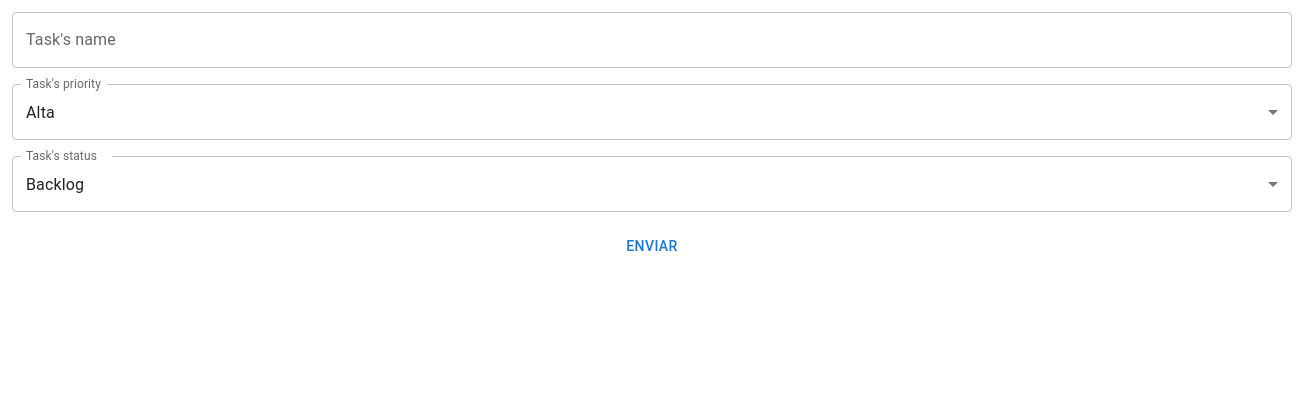
Scenario: <TaskUpdateForm /> › Should save inputs value in form's state
// Type a name
Type "uno" into the field labelled "Task's name" at point(652, 40), box [12,12,1292,68]
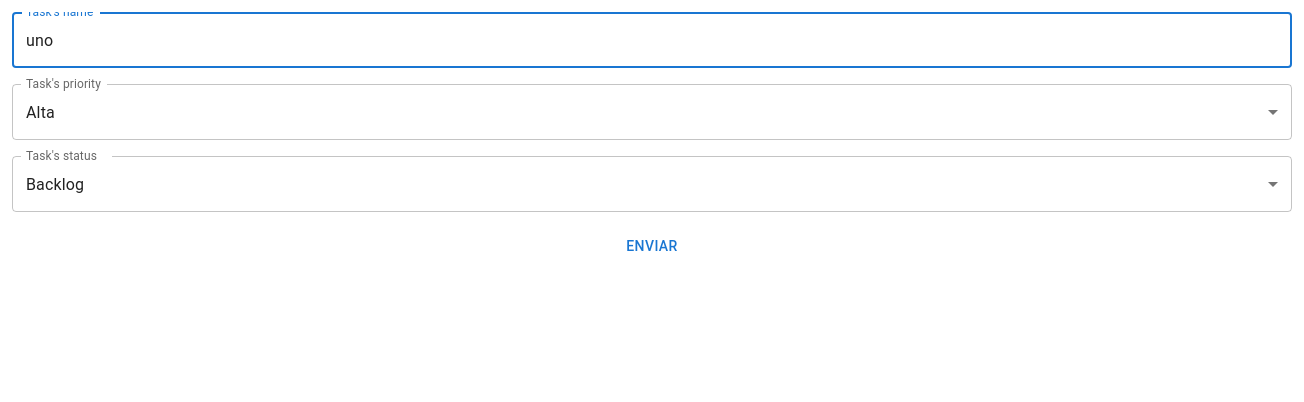
// Select priority
Click the dropdown named "priority" at point(40, 112), box [26,102,55,122]
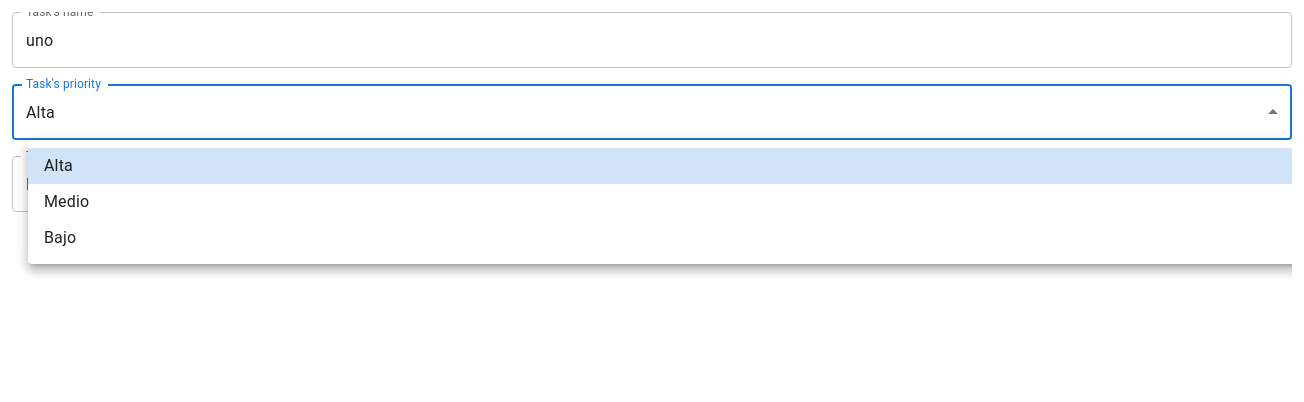
Click the option "Alta" at point(58, 166), box [28,148,1292,184]
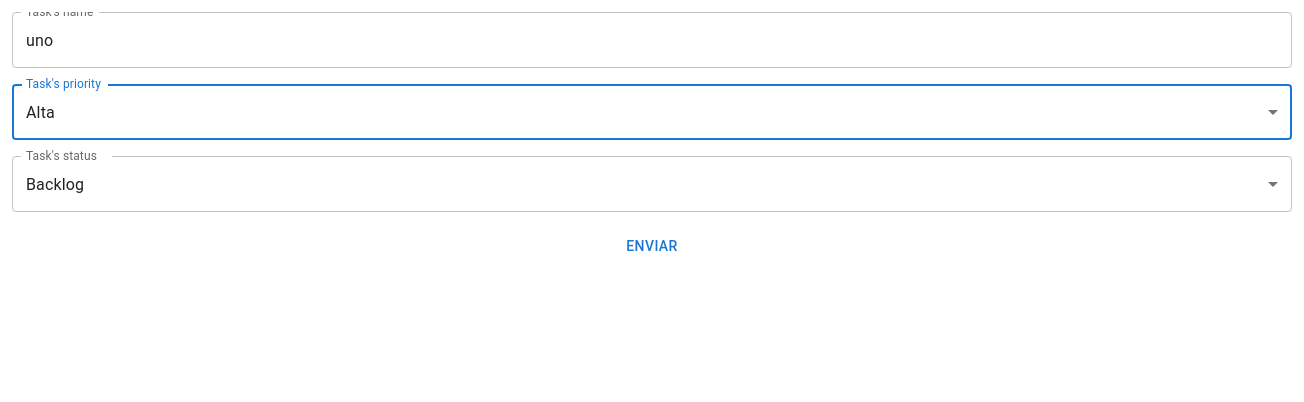
Expected: no options are shown
// Select a status
Click the dropdown named "status" at point(55, 184), box [26,174,84,194]
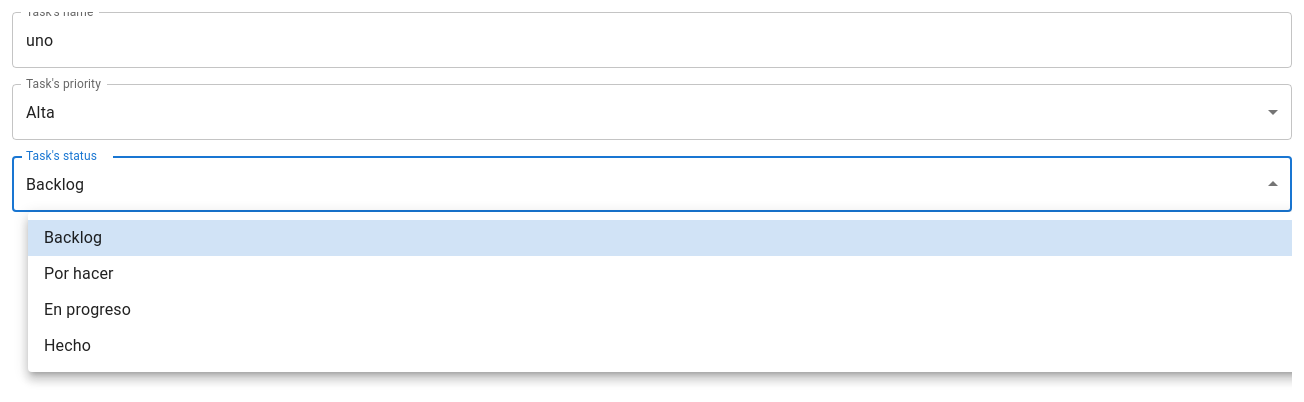
Click the option "Backlog" at point(73, 238), box [28,220,1292,256]
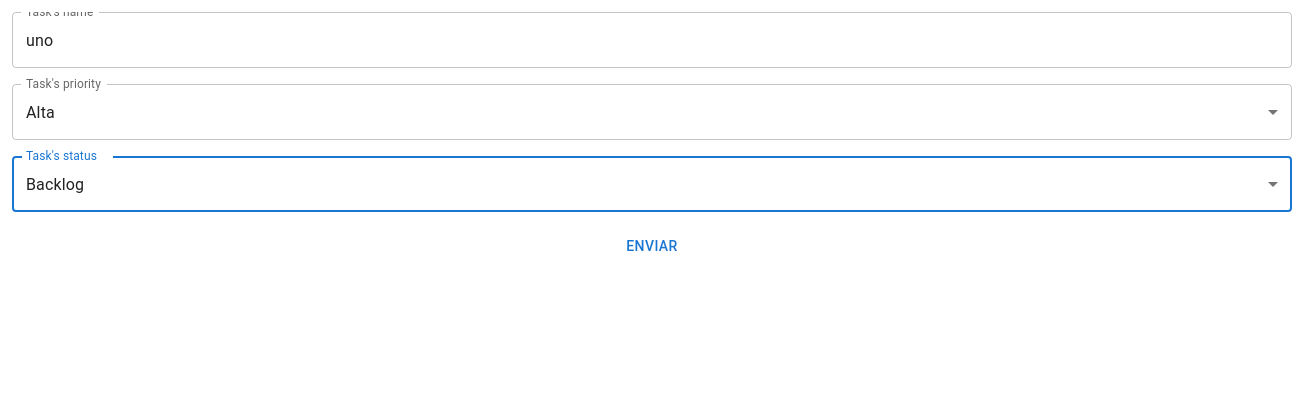
Expected: no options are shown
